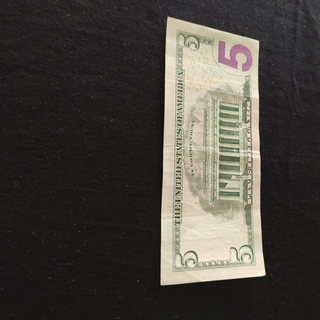5USDBack: (160, 14, 266, 286)
